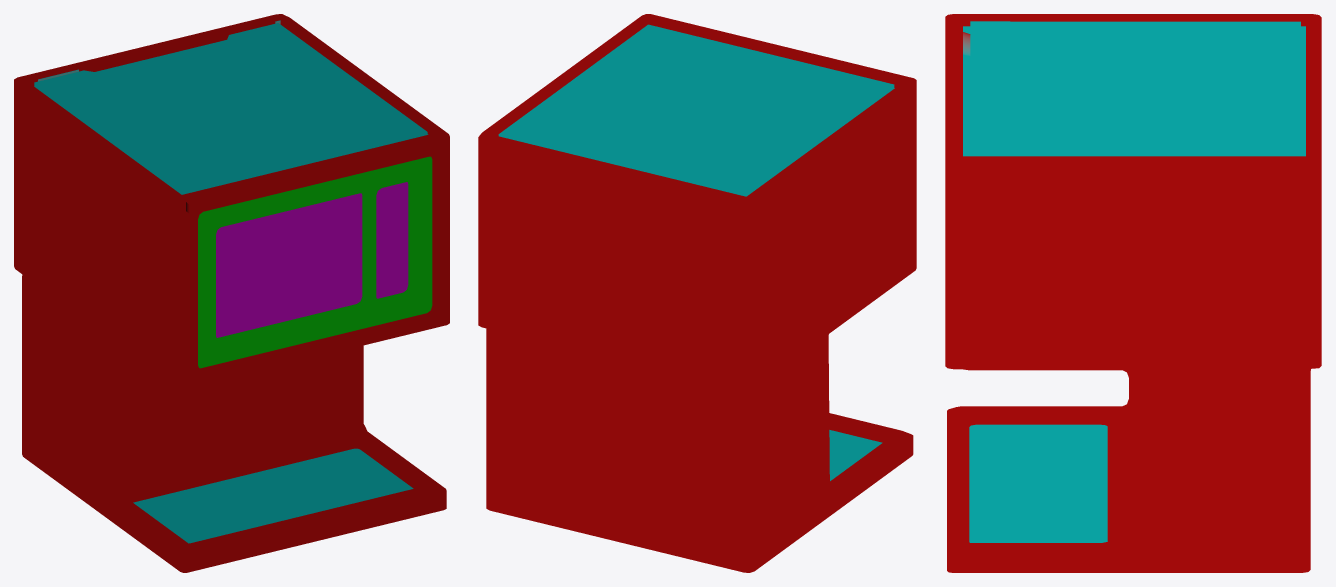
The model's file is coffeemachine.fbx.
The picture shows the model from 3 angles, left to right: view 1: azimuth 30°, elevation 25°; view 2: azimuth 150°, elevation 25°; view 3: azimuth 270°, elevation 25°; orthographic projection. The views are drawn at different scales.
Visible parts, largest first — view 1: coffee_machine:Mesh; view 2: coffee_machine:Mesh; view 3: coffee_machine:Mesh.
Boxes of the visible parts, x1,y1,x2,y2 form: coffee_machine:Mesh: (14,14,449,572); coffee_machine:Mesh: (478,14,916,572); coffee_machine:Mesh: (945,14,1321,572).
Size of the model in its own units: 0.6649 by 0.8689 by 0.7175.
